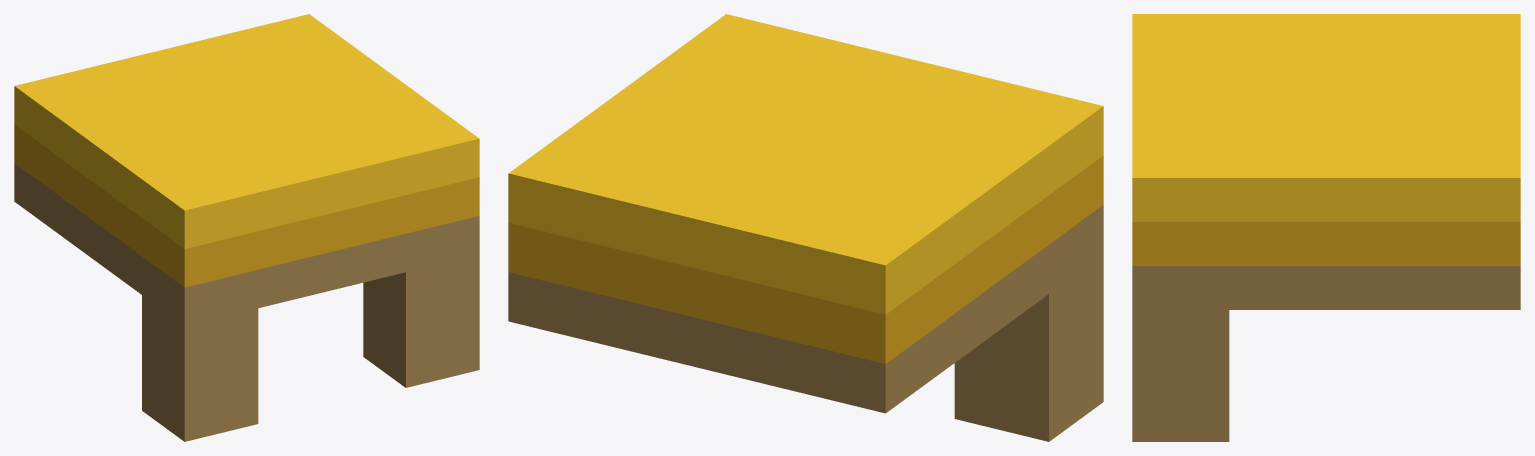
Rendered from Yellow Bed.glb.
3 renders of one model, left to right at view 1: azimuth 30°, elevation 25°; view 2: azimuth 150°, elevation 25°; view 3: azimuth 270°, elevation 25°, orthographic. The views are drawn at different scales.
Parts seen in each view (by area): view 1: Untitled; view 2: Untitled; view 3: Untitled.
Part boxes in pixels (bbox=[...]): Untitled: bbox=[14, 14, 479, 441]; Untitled: bbox=[508, 14, 1103, 441]; Untitled: bbox=[1132, 14, 1520, 441].
Size of the model in its own units: 1.6 by 1.2 by 1.6.
1 material, 1 textured.
